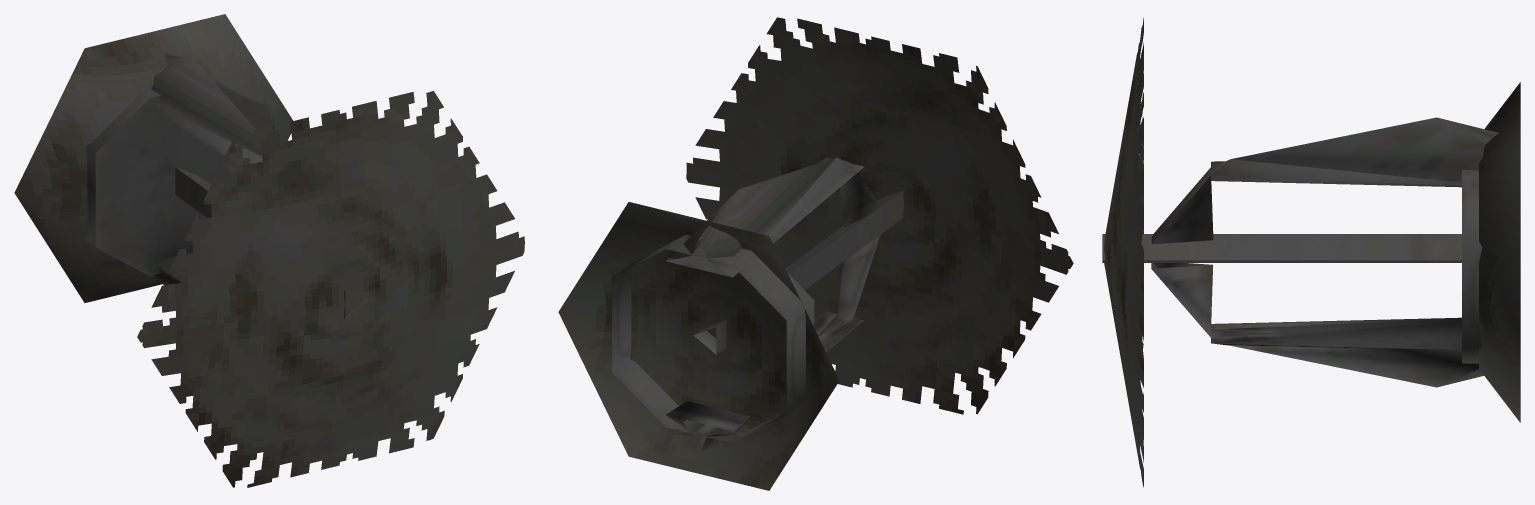
File: nt_2020_sprinkler_01_ceiling_LOD1.obj
3 renders of one model, left to right at view 1: azimuth 30°, elevation 25°; view 2: azimuth 150°, elevation 25°; view 3: azimuth 270°, elevation 25°, orthographic. The views are drawn at different scales.
Parts seen in each view (by area): view 1: mtl_p6_pipes_garage_sprinkler_top, mtl_p6_pipes_garage_details; view 2: mtl_p6_pipes_garage_sprinkler_top, mtl_p6_pipes_garage_details; view 3: mtl_p6_pipes_garage_details, mtl_p6_pipes_garage_sprinkler_top.
Part boxes in pixels (box(x1,y1,x2,y2)): mtl_p6_pipes_garage_sprinkler_top: box(14, 14, 524, 487); mtl_p6_pipes_garage_details: box(85, 53, 367, 318); mtl_p6_pipes_garage_sprinkler_top: box(558, 17, 1073, 490); mtl_p6_pipes_garage_details: box(612, 157, 903, 454); mtl_p6_pipes_garage_details: box(1102, 117, 1498, 387); mtl_p6_pipes_garage_sprinkler_top: box(1104, 17, 1520, 487).
Bounding box in the file's own units: 11.12 × 9.63 × 9.72.
